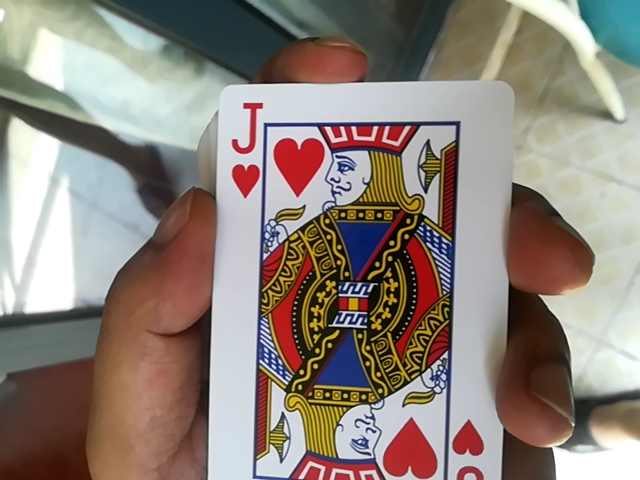hx j: (195, 69, 494, 476)
